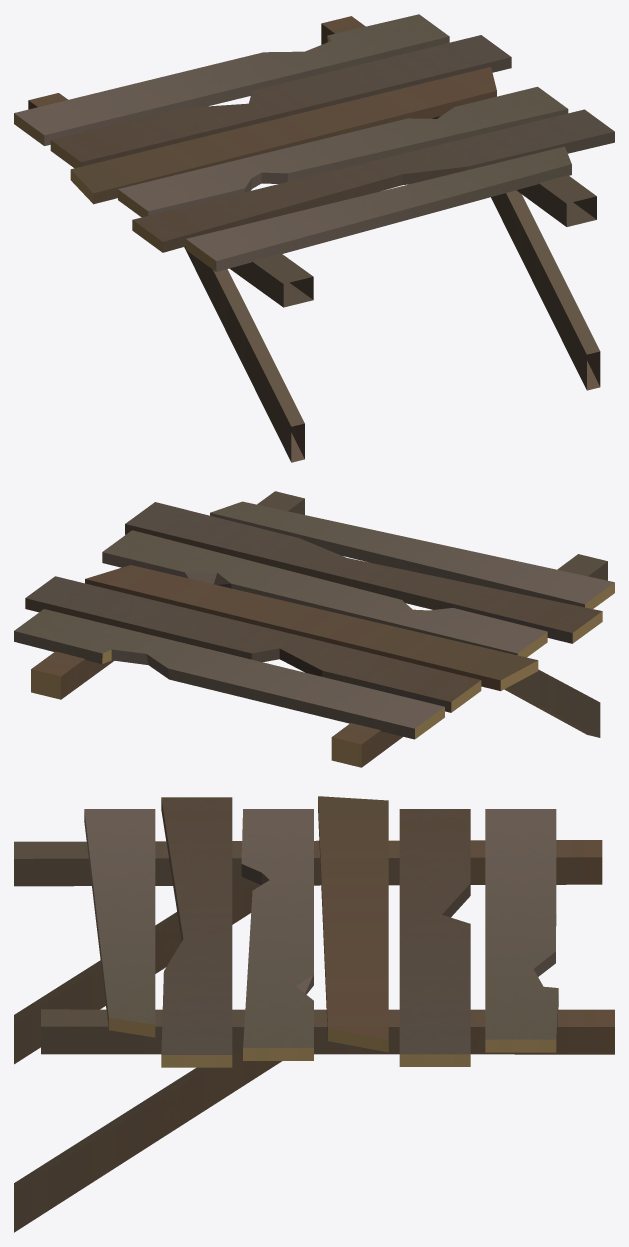
The model's file is Shed_1A.fbx.
3 views of the same model, one above another, from view 1: azimuth 30°, elevation 25°; view 2: azimuth 150°, elevation 25°; view 3: azimuth 270°, elevation 25° (orthographic). The views are drawn at different scales.
Visible parts, largest first — view 1: polySurface9822; view 2: polySurface9822; view 3: polySurface9822.
Part boxes in pixels (x1,y1,x2,y2): polySurface9822: [14, 14, 614, 462]; polySurface9822: [14, 491, 614, 767]; polySurface9822: [14, 796, 614, 1232].
Bounding box in the file's own units: 240 × 96.1 × 236.
